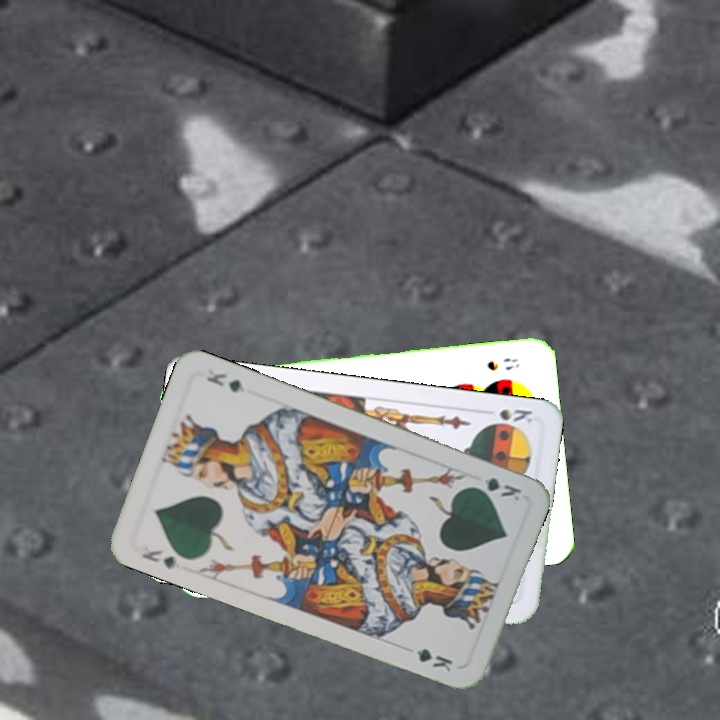GK: (466, 473, 524, 504), (137, 545, 184, 572)
S8: (483, 353, 522, 373)
SK: (484, 405, 535, 431)
